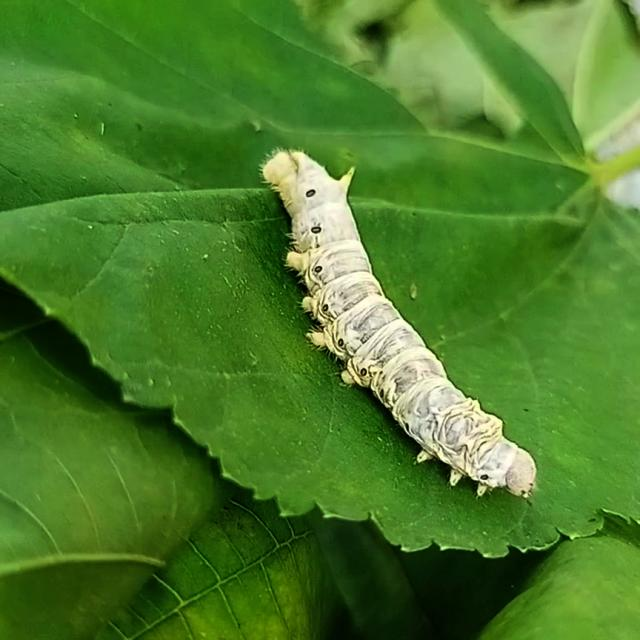Grasserie: (243, 127, 543, 501)
